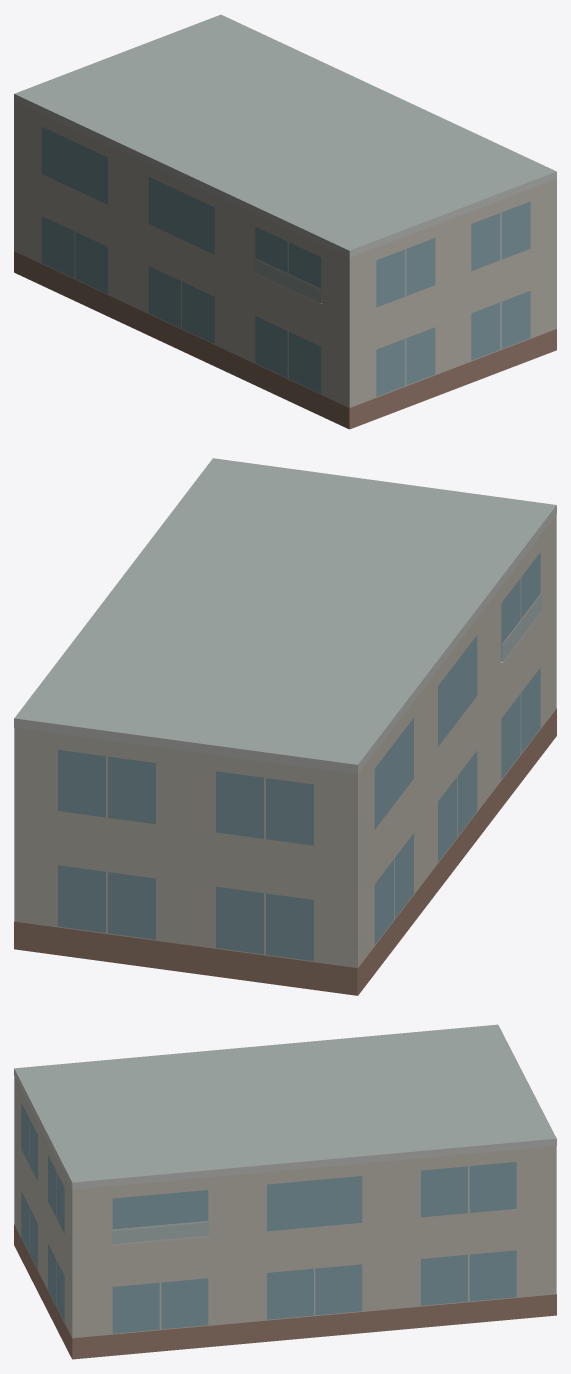
File: survey-upis-32709154.glb
The picture shows the model from 3 angles, top to bottom: view 1: azimuth 30°, elevation 25°; view 2: azimuth 150°, elevation 25°; view 3: azimuth 270°, elevation 25°; orthographic projection. The views are drawn at different scales.
Parts seen in each view (by area): view 1: survey-upis-32709154.tmp; view 2: survey-upis-32709154.tmp; view 3: survey-upis-32709154.tmp.
Part boxes in pixels (x1,y1,x2,y2): survey-upis-32709154.tmp: (14,14,556,429); survey-upis-32709154.tmp: (14,458,556,995); survey-upis-32709154.tmp: (14,1024,556,1359).
Size of the model in its own units: 11.71 by 6.1 by 16.98.
